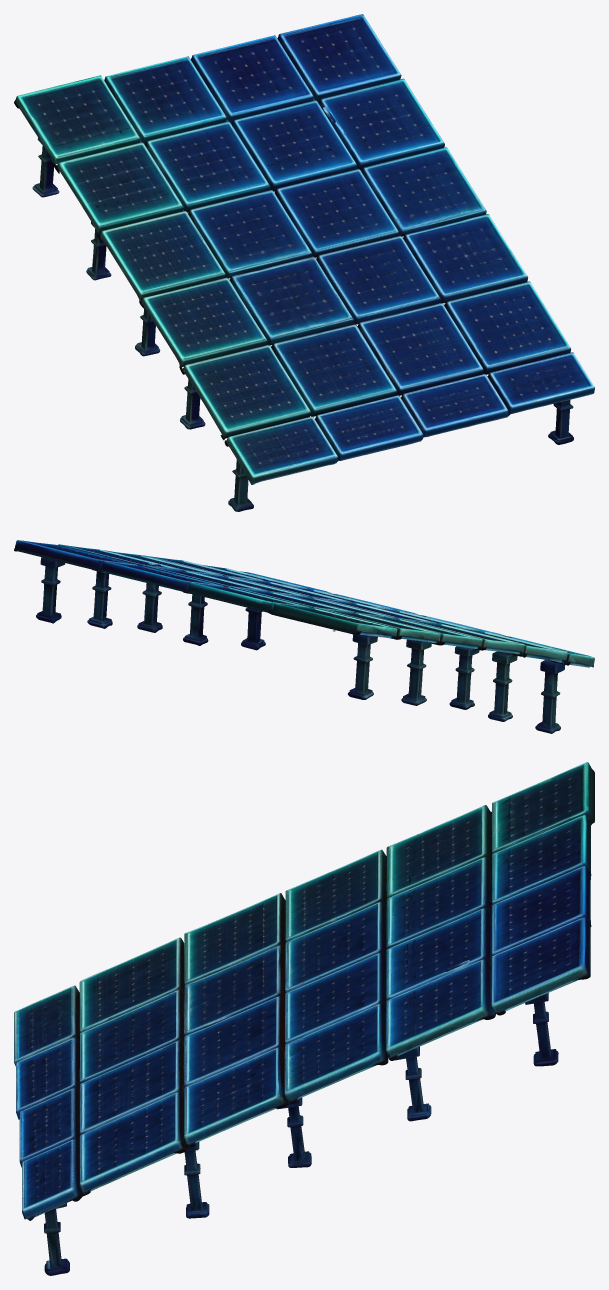
The model's file is solar_panel_optimized.glb.
3 renders of one model, top to bottom at view 1: azimuth 30°, elevation 25°; view 2: azimuth 150°, elevation 25°; view 3: azimuth 270°, elevation 25°, orthographic. The views are drawn at different scales.
Parts seen in each view (by area): view 1: world; view 2: world; view 3: world.
Boxes of the visible parts, left/top/right/bottom form: world: left=14, top=14, right=594, bottom=511; world: left=14, top=540, right=594, bottom=733; world: left=14, top=762, right=594, bottom=1275.
Bounding box in the file's own units: 0.8345 × 0.6061 × 1.
1 material, 1 textured.
